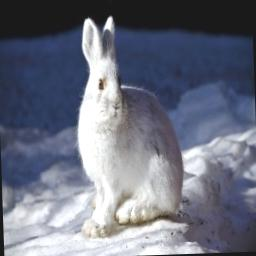rabbit: (77, 18, 182, 237)
